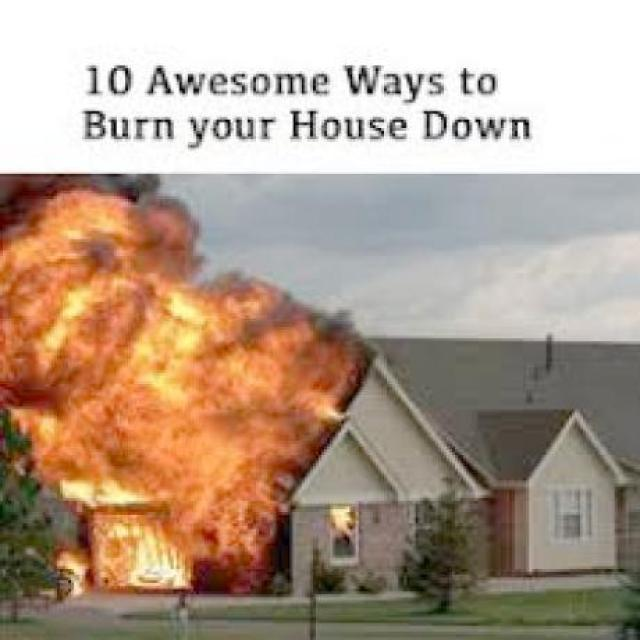Fire: (3, 186, 350, 604)
